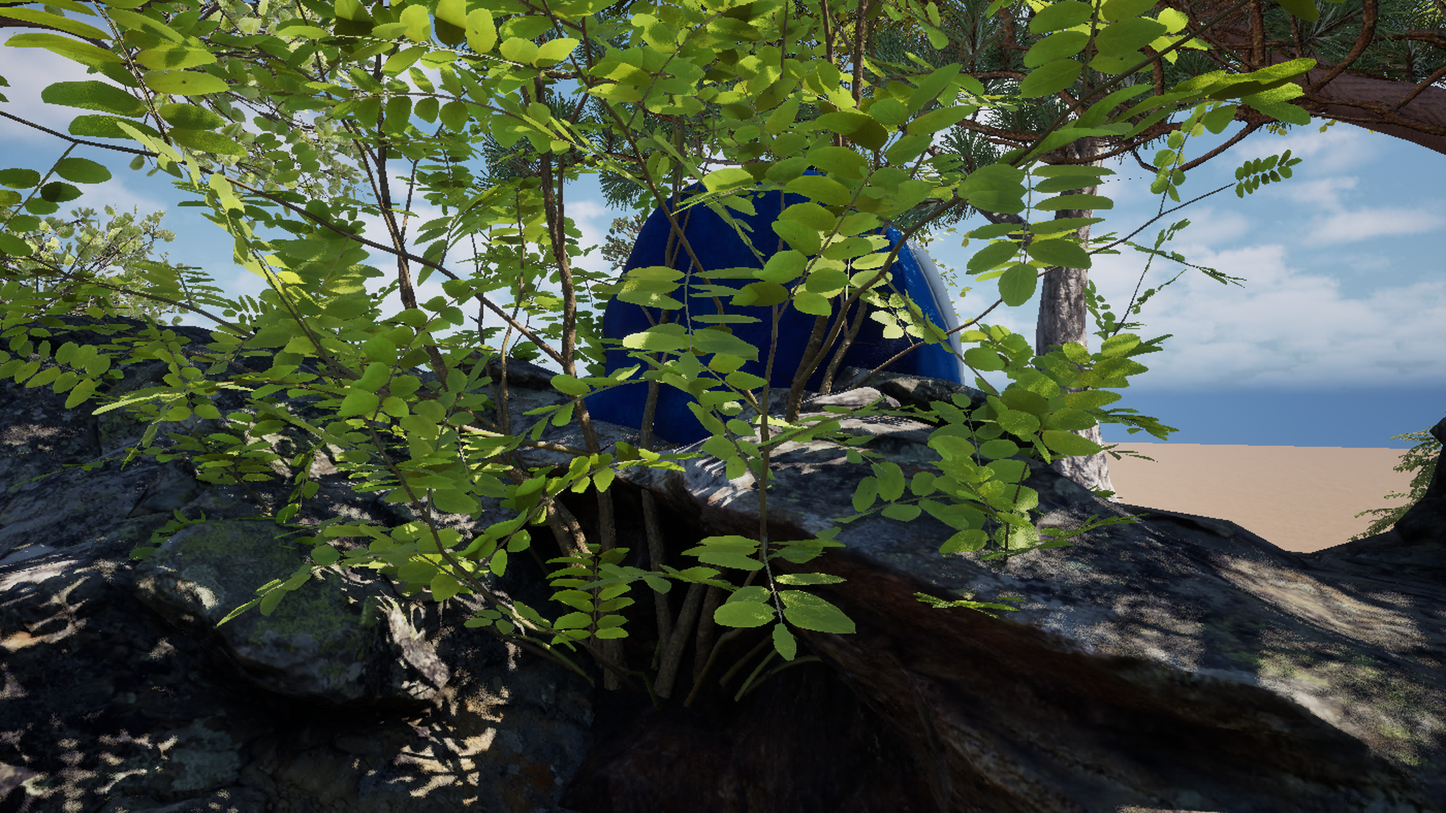Piplup: (200, 0, 1102, 813)
